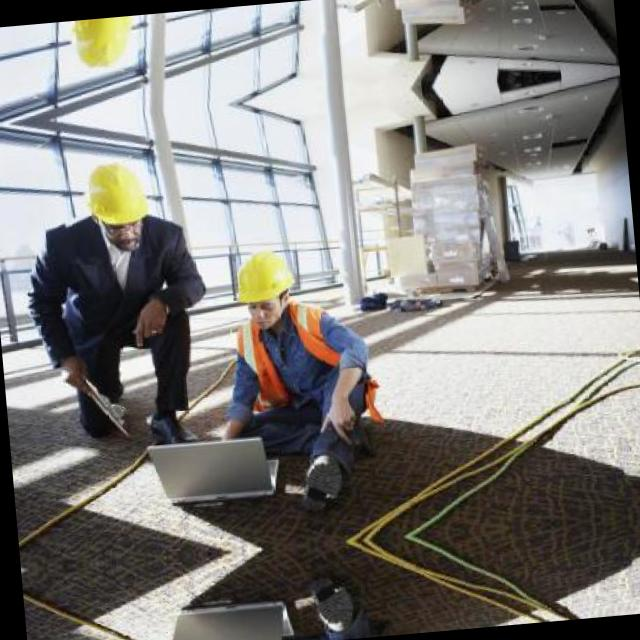helmet: (78, 154, 155, 252), (224, 244, 302, 332), (65, 15, 141, 76)
